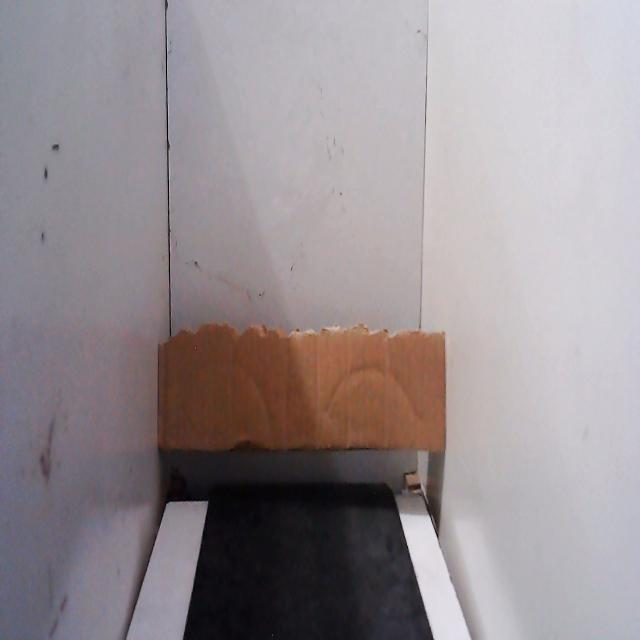papel: (151, 310, 451, 460)
